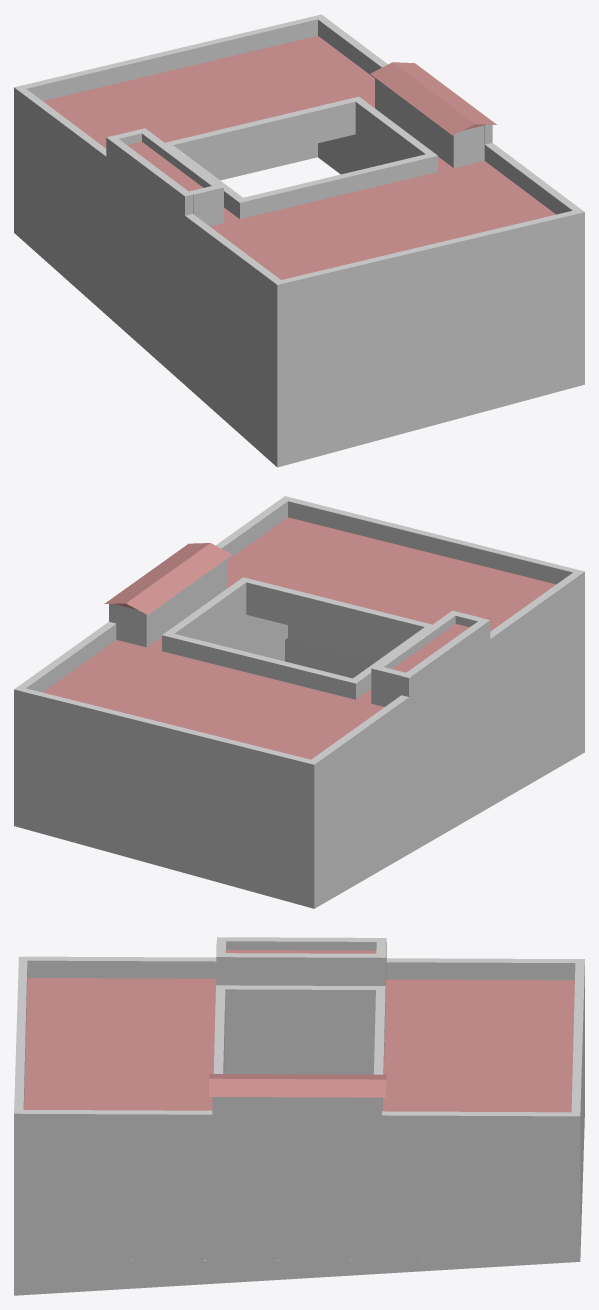
Rendered from LOD_Block_4_78.glb.
3 views of the same model, one above another, from view 1: azimuth 30°, elevation 25°; view 2: azimuth 150°, elevation 25°; view 3: azimuth 270°, elevation 25° (orthographic). The views are drawn at different scales.
Parts seen in each view (by area): view 1: mesh_CityEngineMaterial_1225; view 2: mesh_CityEngineMaterial_1225; view 3: mesh_CityEngineMaterial_1225.
Part boxes in pixels (box(x1,y1,x2,y2)): mesh_CityEngineMaterial_1225: box(14, 14, 584, 467); mesh_CityEngineMaterial_1225: box(14, 496, 584, 908); mesh_CityEngineMaterial_1225: box(14, 937, 584, 1295).
Size of the model in its own units: 20 by 12.71 by 30.08.
